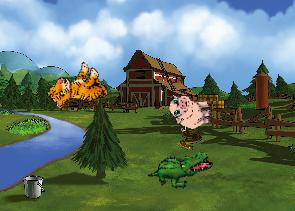crocodile: (146, 136, 215, 201)
pig: (168, 90, 214, 132)
tiger: (43, 55, 113, 124)
